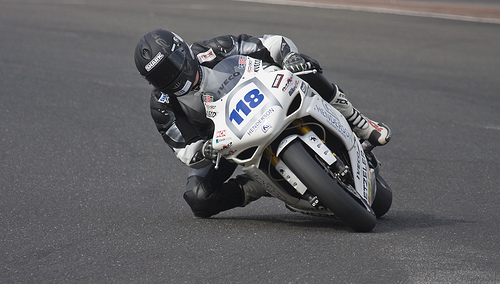helmet: (130, 31, 197, 92)
